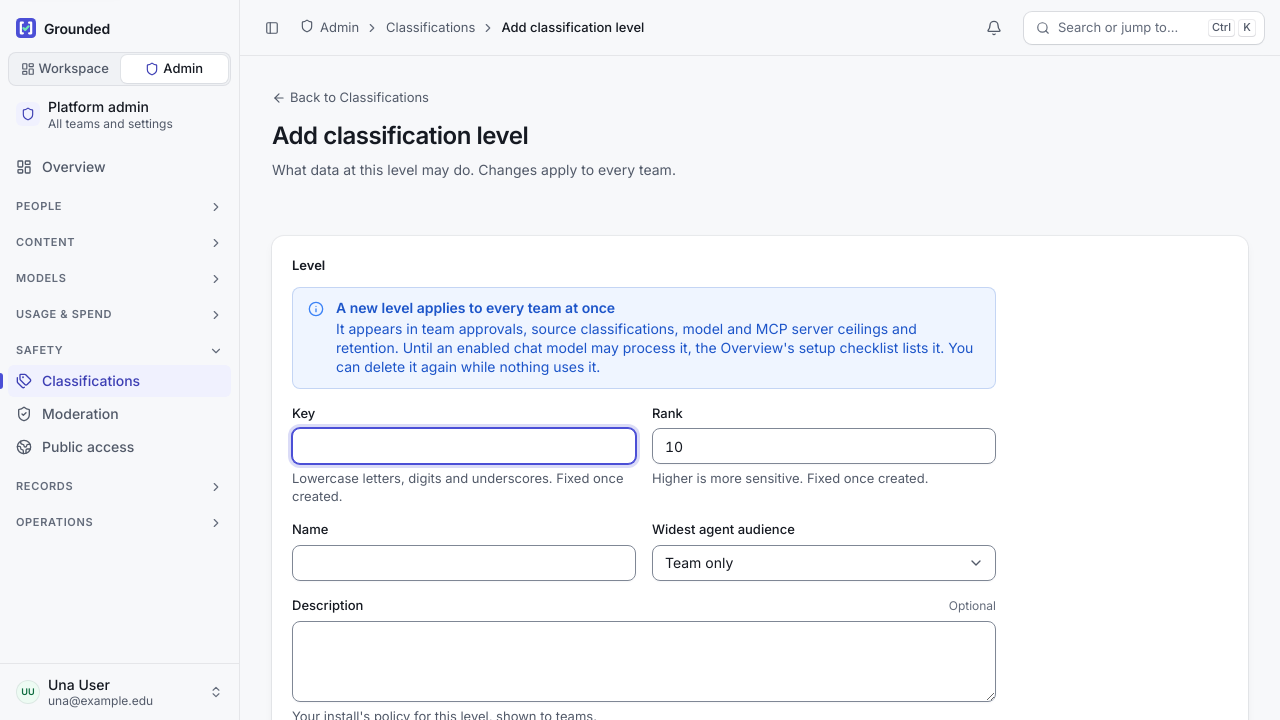
Add level (AD2-14) › creates the level without a PATCH that changes nothing
The width and height of the screenshot is (1280, 720).
Type "beta" into the field labelled "Key" at (464, 446), box 292,428 -> 636,464
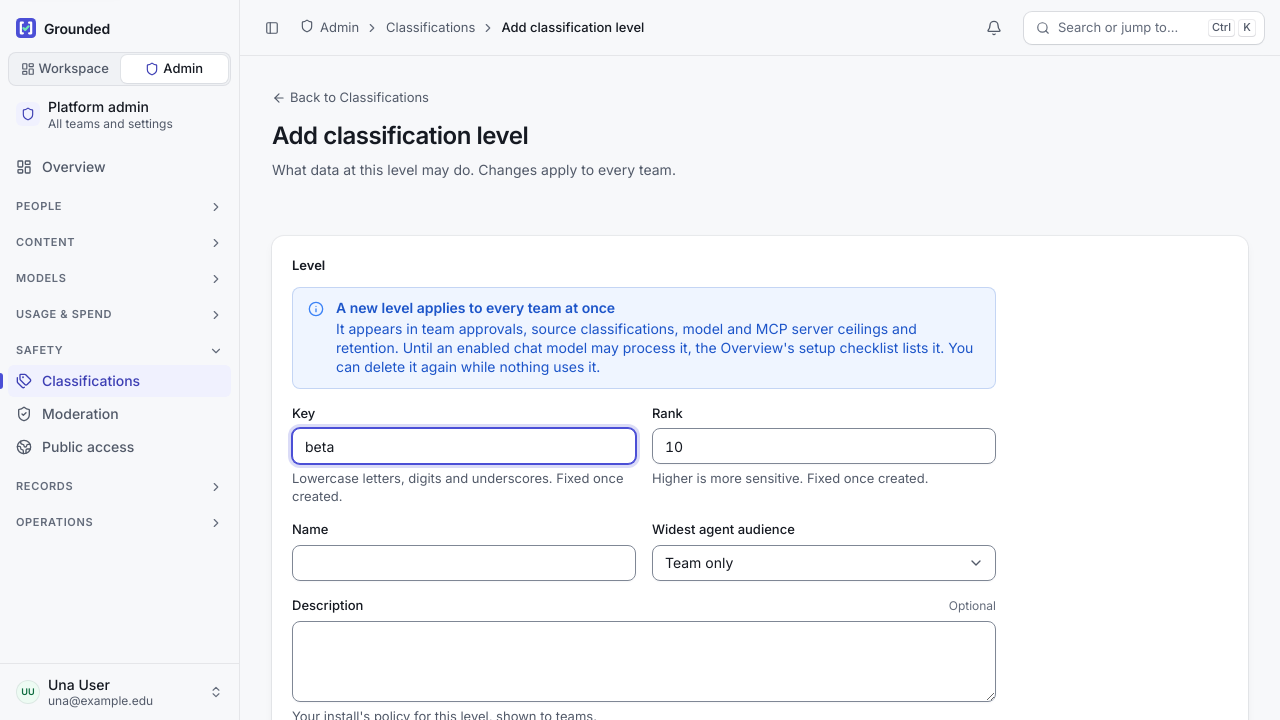
Type "Beta" into the field labelled "Name" at (464, 563), box 292,545 -> 636,581
(page scrolled)
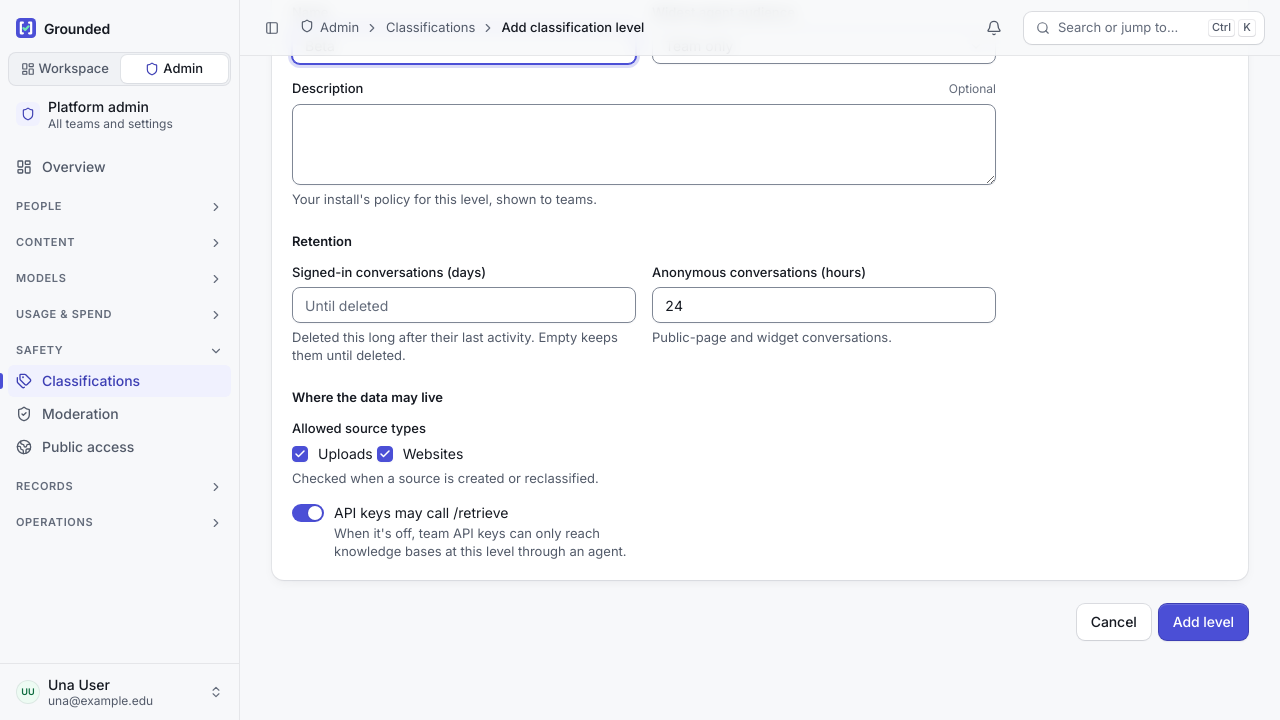
Click the button "Add level" at (1203, 622), box 1159,604 -> 1248,640
(page scrolled)
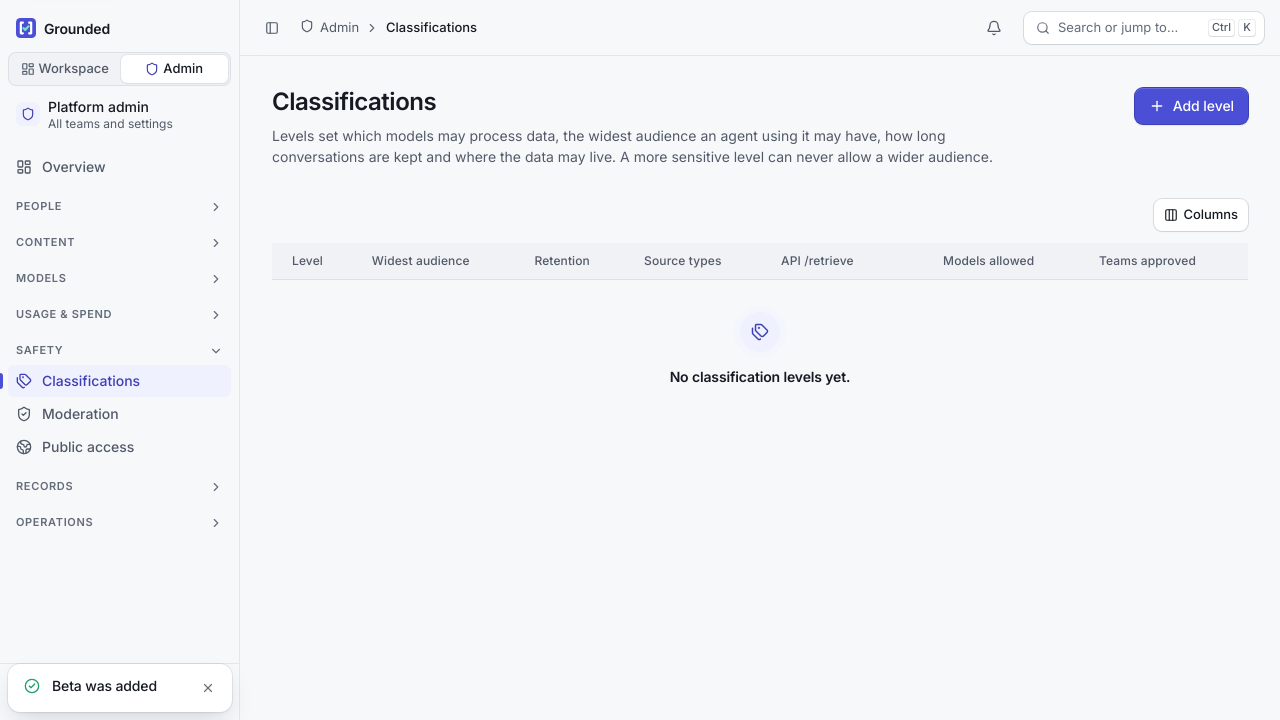
Result: the heading "Beta was added" is shown at 52,677 -> 157,694
